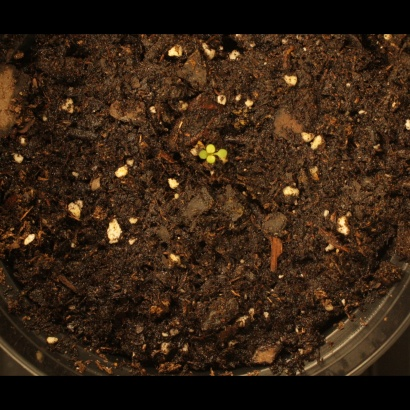leaf: (215, 145, 238, 168), (187, 146, 210, 169), (203, 133, 226, 156), (200, 154, 223, 177)
